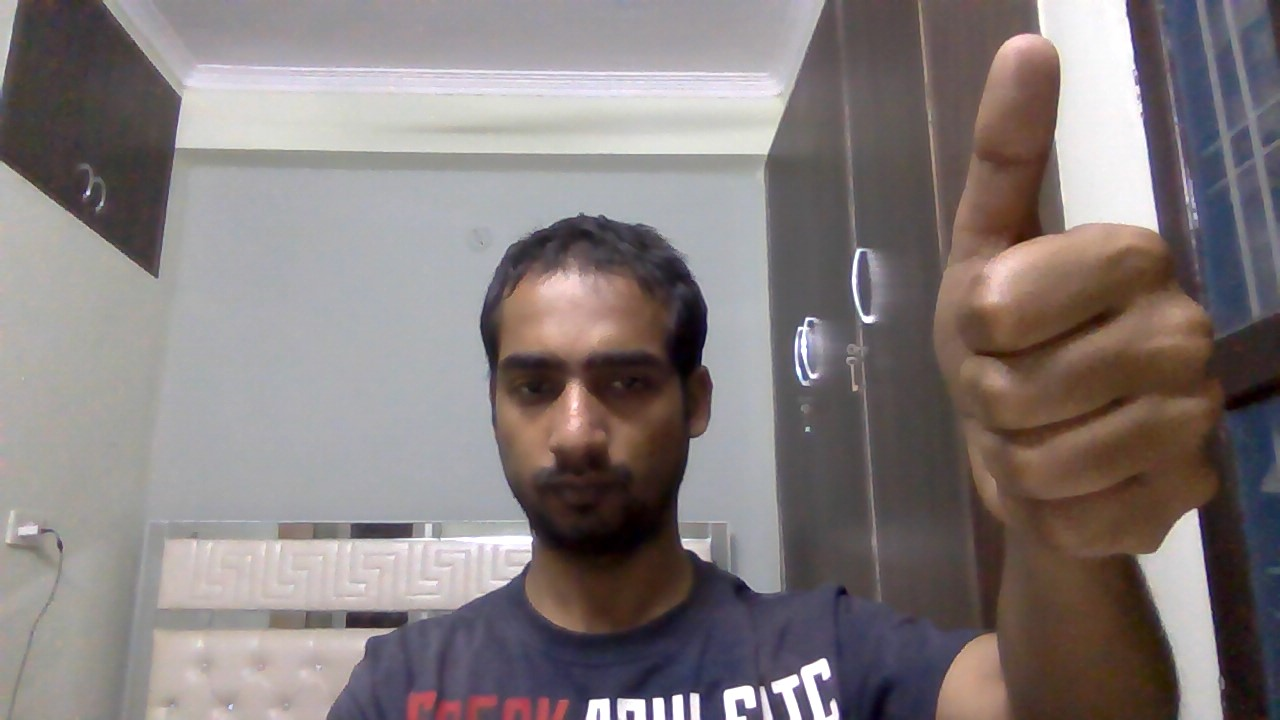Save: (931, 25, 1244, 576)
